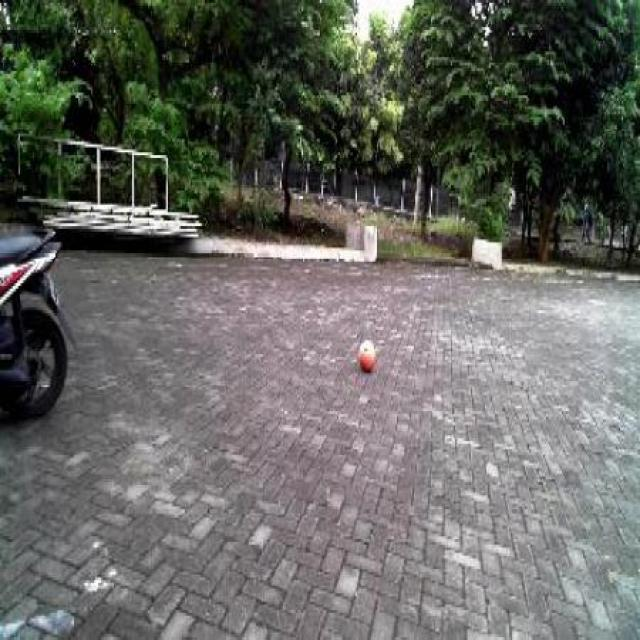buoy: (355, 329, 377, 376)
